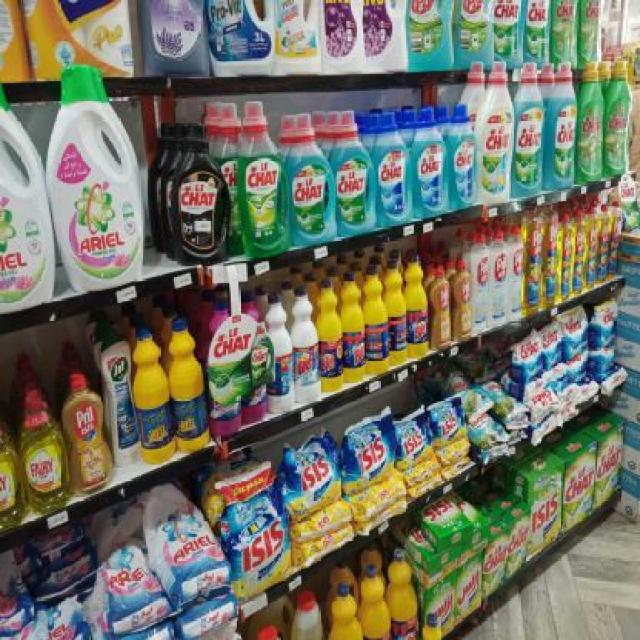Detergent: (49, 71, 146, 292), (0, 78, 54, 313), (148, 486, 218, 600), (100, 544, 166, 627), (38, 593, 102, 639)
